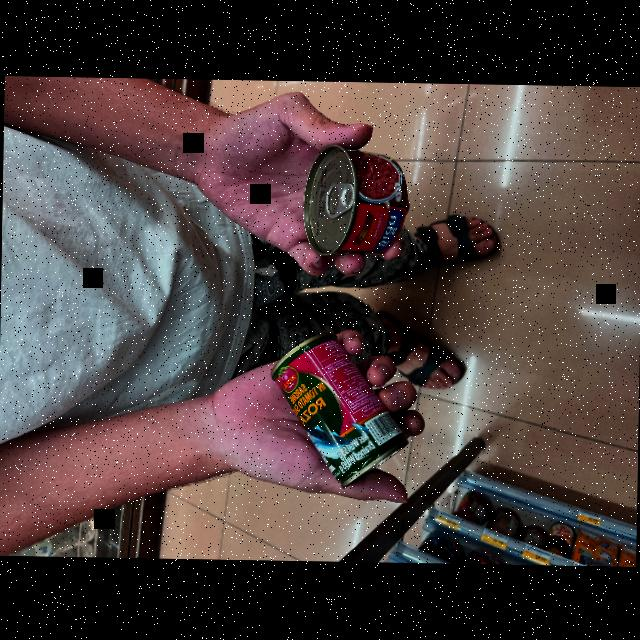can: (258, 322, 413, 498), (293, 136, 423, 268)
